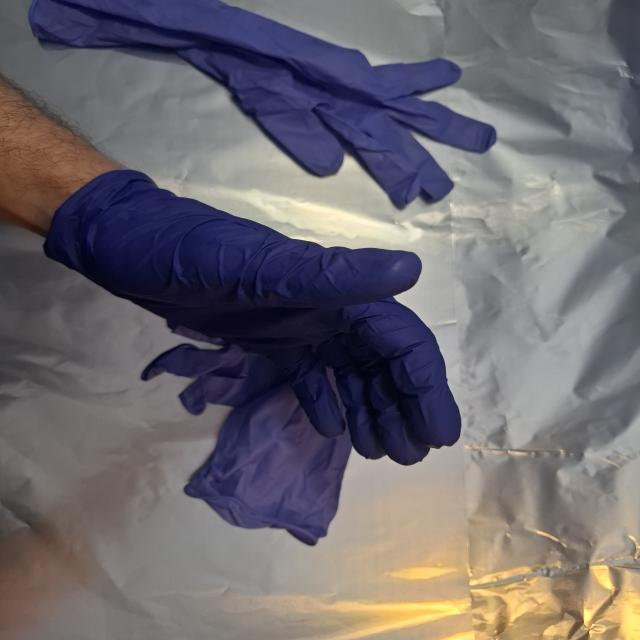glove_on: (48, 167, 468, 470)
